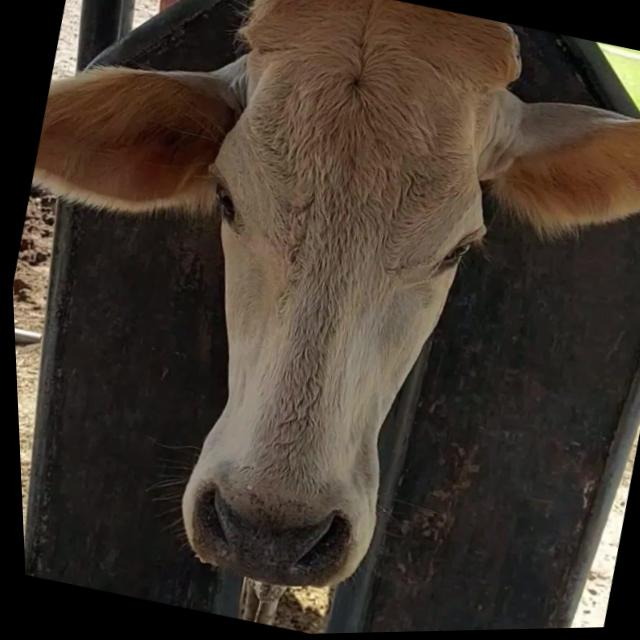cowFace: (117, 0, 539, 610)
